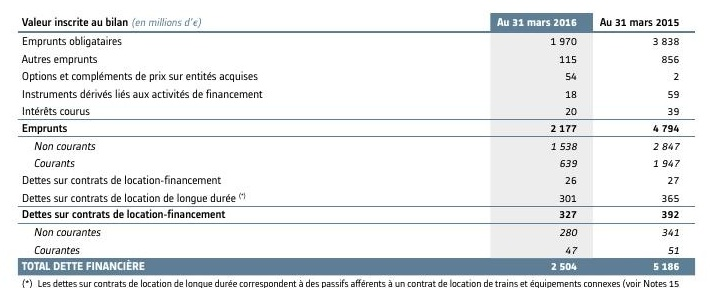table: (0, 0, 712, 288)
